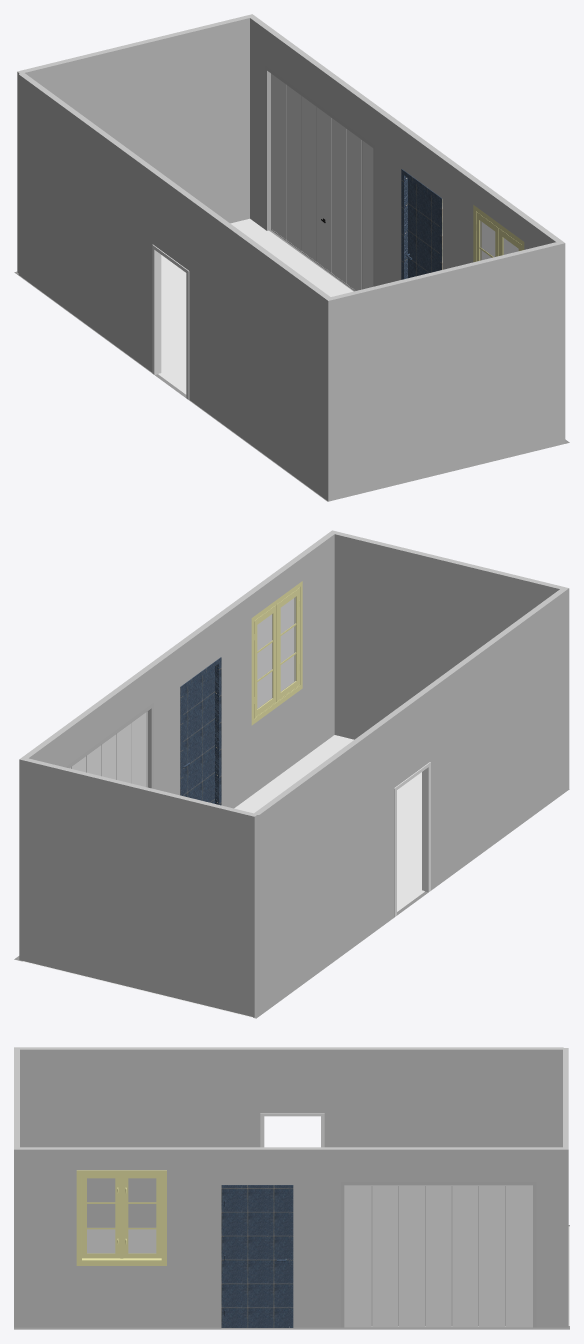
Rendered from Parqueadero.obj.
3 renders of one model, top to bottom at view 1: azimuth 30°, elevation 25°; view 2: azimuth 150°, elevation 25°; view 3: azimuth 270°, elevation 25°, orthographic. The views are drawn at different scales.
Visible parts, largest first — view 1: wall_4_22, wall_3_16, wall_5_29, wall_1_5, Door_36, room_6_32, sweethome3d_opening_on_hinge_1_door_46, Frame_37, Montant_67, frame_38, wall_1_6, wall_4_25 (+4 smaller); view 2: wall_4_22, wall_5_28, wall_1_5, wall_3_17, room_6_32, sweethome3d_opening_on_hinge_1_door_46, Door_36, Montant_67, frame_38, wall_2_11, sweethome3d_window_pane_on_hinge_2_66, sweethome3d_window_pane_on_hinge_1_58 (+9 smaller); view 3: wall_4_23, wall_1_4, Door_36, sweethome3d_opening_on_hinge_1_door_46, CageIn_50, sweethome3d_window_pane_on_hinge_1_58, sweethome3d_window_pane_on_hinge_2_66, Frame_37, ground_1, room_6_32, frame_38, sweethome3d_opening_on_hinge_2_in_60 (+8 smaller).
Part boxes in pixels (x1,y1,x2,y2): wall_4_22: (18, 74, 328, 501); wall_3_16: (328, 243, 565, 501); wall_5_29: (25, 18, 249, 223); wall_1_5: (250, 18, 555, 286); Door_36: (271, 73, 373, 291); room_6_32: (158, 218, 353, 394); sweethome3d_opening_on_hinge_1_door_46: (408, 178, 439, 278); Frame_37: (264, 65, 375, 286); Montant_67: (152, 244, 189, 399); frame_38: (401, 169, 442, 279); wall_1_6: (251, 14, 564, 242); wall_4_25: (20, 70, 330, 298); wall_4_22: (257, 588, 569, 1015); wall_5_28: (19, 759, 254, 1016); wall_1_5: (29, 534, 334, 808); wall_3_17: (334, 534, 559, 739); room_6_32: (23, 735, 424, 1017); sweethome3d_opening_on_hinge_1_door_46: (183, 666, 214, 803); Door_36: (70, 711, 147, 787); Montant_67: (394, 762, 430, 917); frame_38: (180, 657, 221, 805); wall_2_11: (250, 816, 256, 1017); sweethome3d_window_pane_on_hinge_2_66: (257, 614, 272, 708); sweethome3d_window_pane_on_hinge_1_58: (280, 597, 295, 691); wall_4_23: (20, 1049, 562, 1227); wall_1_4: (14, 1149, 568, 1327); Door_36: (344, 1185, 532, 1327); sweethome3d_opening_on_hinge_1_door_46: (225, 1188, 289, 1327); CageIn_50: (76, 1170, 166, 1265); sweethome3d_window_pane_on_hinge_1_58: (87, 1178, 115, 1253); sweethome3d_window_pane_on_hinge_2_66: (128, 1178, 156, 1253); Frame_37: (340, 1182, 536, 1327); ground_1: (14, 1225, 569, 1329); room_6_32: (87, 1226, 569, 1325); frame_38: (221, 1185, 293, 1327); sweethome3d_opening_on_hinge_2_in_60: (123, 1175, 161, 1258).
Bounding box in the file's own units: 316 × 250 × 708.
Materials: 16 (2 with a texture image).
